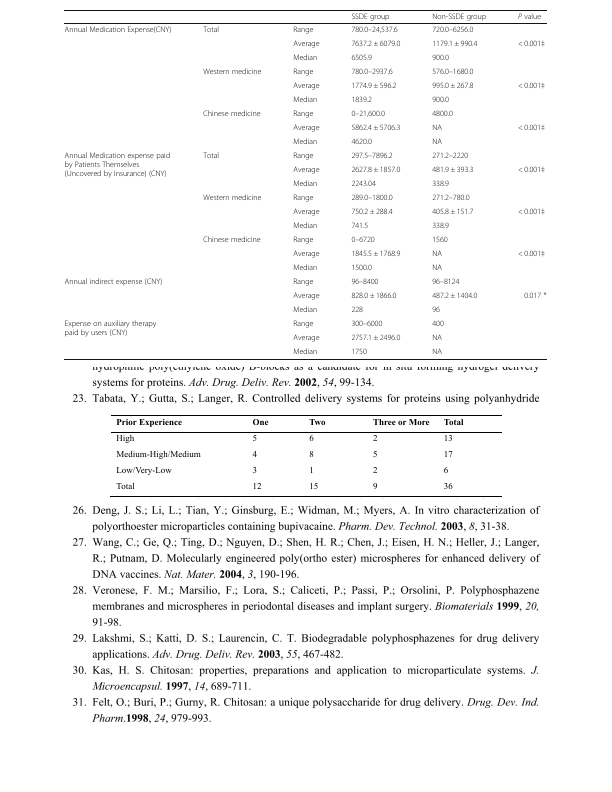borderless: (63, 8, 547, 359), (110, 413, 502, 496)
cell: (64, 151, 171, 179), (64, 319, 157, 338), (64, 25, 172, 35), (64, 277, 163, 287), (115, 450, 201, 460), (115, 417, 182, 427), (202, 67, 262, 77), (202, 193, 262, 203), (202, 109, 261, 119), (202, 235, 261, 245), (371, 417, 430, 427), (115, 466, 172, 476), (350, 39, 401, 49), (350, 123, 401, 133), (350, 165, 401, 175), (350, 249, 401, 259), (350, 333, 401, 343), (431, 12, 487, 21), (350, 25, 399, 35), (431, 39, 478, 49), (350, 81, 397, 91), (350, 291, 397, 301), (431, 291, 478, 301), (350, 207, 394, 217), (431, 25, 474, 35), (350, 67, 393, 77), (431, 67, 474, 77), (431, 81, 474, 91), (350, 151, 393, 161), (431, 165, 474, 175), (350, 193, 393, 203), (431, 207, 474, 217), (431, 193, 470, 203), (431, 151, 469, 161), (350, 12, 390, 21), (350, 109, 386, 119), (350, 319, 383, 329), (517, 39, 546, 49), (517, 81, 546, 91), (517, 123, 546, 133), (517, 165, 546, 175), (517, 207, 546, 217), (517, 249, 546, 259), (350, 277, 379, 287), (431, 277, 460, 287), (292, 39, 320, 49), (292, 81, 320, 91), (292, 123, 320, 133), (292, 165, 320, 175), (292, 207, 320, 217), (292, 249, 320, 259), (292, 291, 320, 301), (292, 333, 320, 343), (350, 179, 377, 189), (292, 53, 318, 63), (292, 95, 318, 105), (292, 137, 318, 147), (292, 179, 318, 189), (292, 221, 318, 231), (350, 235, 376, 245), (292, 263, 318, 273), (292, 305, 318, 315), (292, 347, 318, 357), (523, 291, 547, 301), (350, 53, 373, 63), (350, 95, 373, 105), (431, 109, 454, 119), (350, 137, 373, 147), (350, 263, 373, 273), (517, 12, 542, 21), (292, 25, 314, 35), (292, 67, 314, 77), (292, 109, 314, 119), (292, 151, 314, 161), (292, 193, 314, 203), (292, 235, 314, 245), (292, 277, 314, 287), (292, 319, 314, 329), (442, 417, 464, 427), (115, 434, 135, 444), (115, 482, 135, 492), (431, 53, 450, 63), (431, 95, 450, 105), (431, 179, 450, 189), (350, 221, 369, 231), (431, 221, 450, 231), (202, 25, 220, 35), (202, 151, 220, 161), (431, 235, 449, 245), (350, 347, 368, 357), (251, 417, 269, 427), (308, 417, 326, 427), (350, 305, 364, 315), (431, 319, 445, 329), (431, 123, 443, 133), (431, 137, 443, 147), (431, 249, 443, 259), (431, 263, 443, 273), (431, 333, 443, 343), (431, 347, 443, 357), (442, 434, 453, 444), (442, 450, 453, 460), (251, 482, 262, 492), (308, 482, 319, 492), (442, 482, 453, 492), (431, 305, 441, 315), (371, 434, 378, 444), (371, 450, 378, 460), (371, 466, 378, 476), (442, 466, 449, 476), (371, 482, 378, 492), (251, 434, 257, 444), (308, 434, 314, 444), (251, 450, 257, 460), (308, 450, 314, 460), (251, 466, 257, 476), (308, 466, 314, 476)
